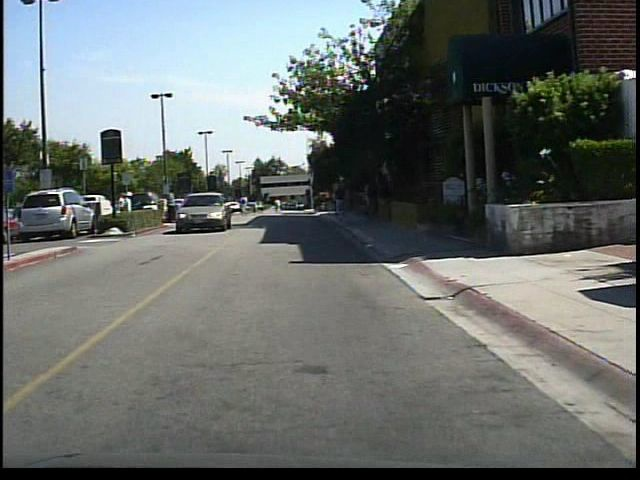person: (162, 185, 179, 225), (333, 177, 348, 218), (116, 190, 131, 230), (125, 187, 138, 229), (239, 189, 252, 218)
